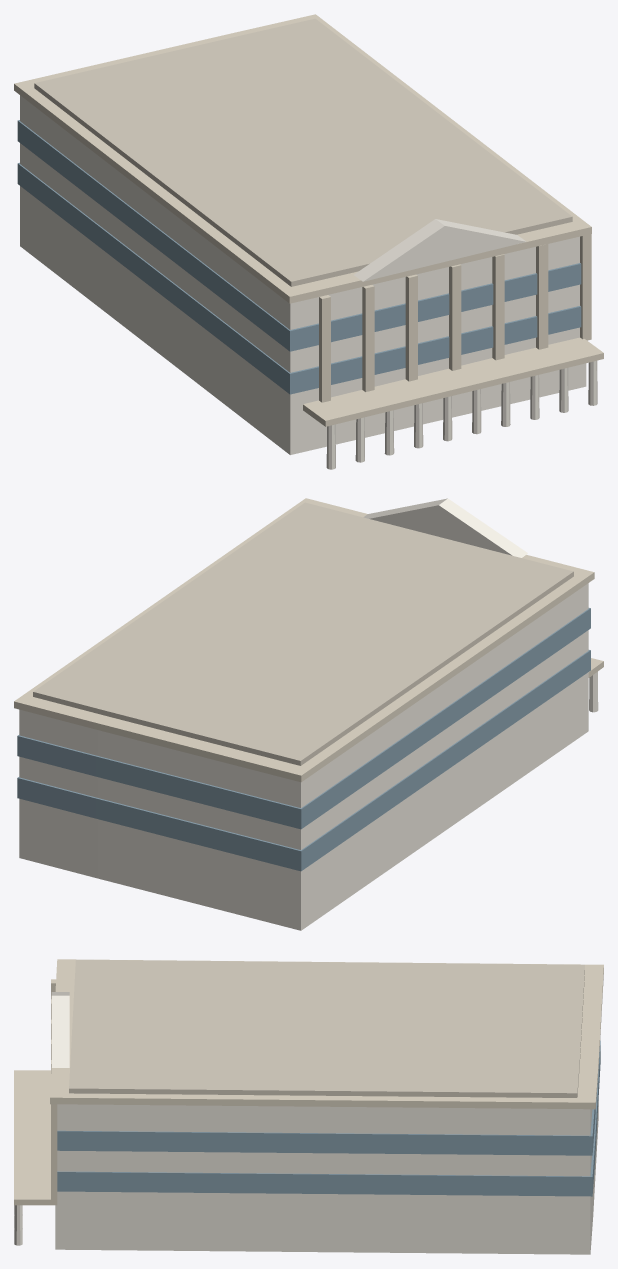
File: strand_hotel.glb
3 views of the same model, one above another, from view 1: azimuth 30°, elevation 25°; view 2: azimuth 150°, elevation 25°; view 3: azimuth 270°, elevation 25° (orthographic). The views are drawn at different scales.
Parts seen in each view (by area): view 1: part; view 2: part; view 3: part.
Part boxes in pixels (x1,y1,x2,y2): part: (14,14,603,469); part: (14,498,603,930); part: (14,959,603,1254).
Bounding box in the file's own units: 37.74 × 23 × 65.6.
